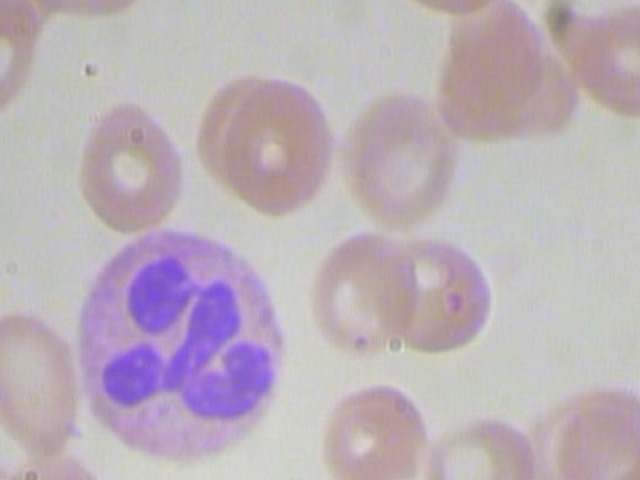RBC: (302, 213, 425, 359), (383, 220, 506, 366), (339, 85, 453, 239), (221, 71, 337, 215), (75, 95, 187, 237), (0, 307, 90, 463), (315, 377, 430, 480), (420, 395, 543, 480), (0, 0, 48, 131), (391, 0, 513, 18), (0, 187, 1, 329)
WBC: (66, 225, 291, 478)
